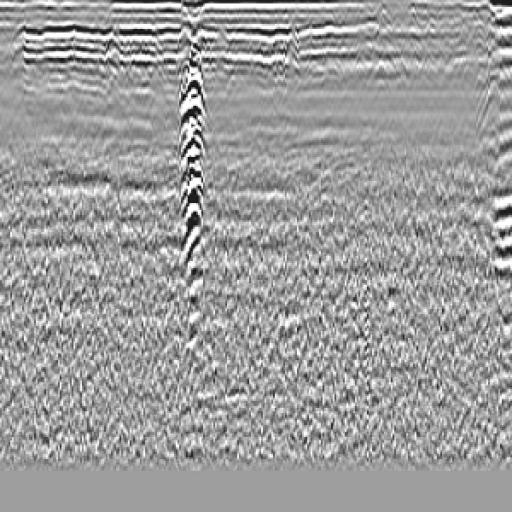metalic: (157, 40, 236, 311)
